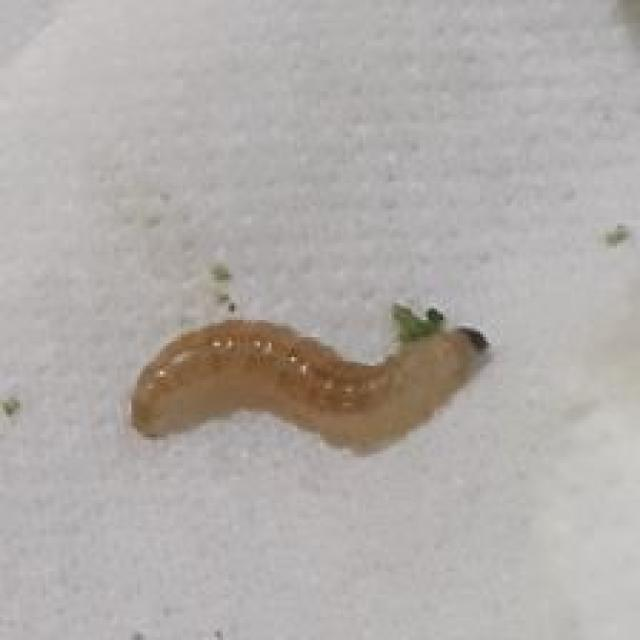white mucus: (86, 257, 525, 464)
